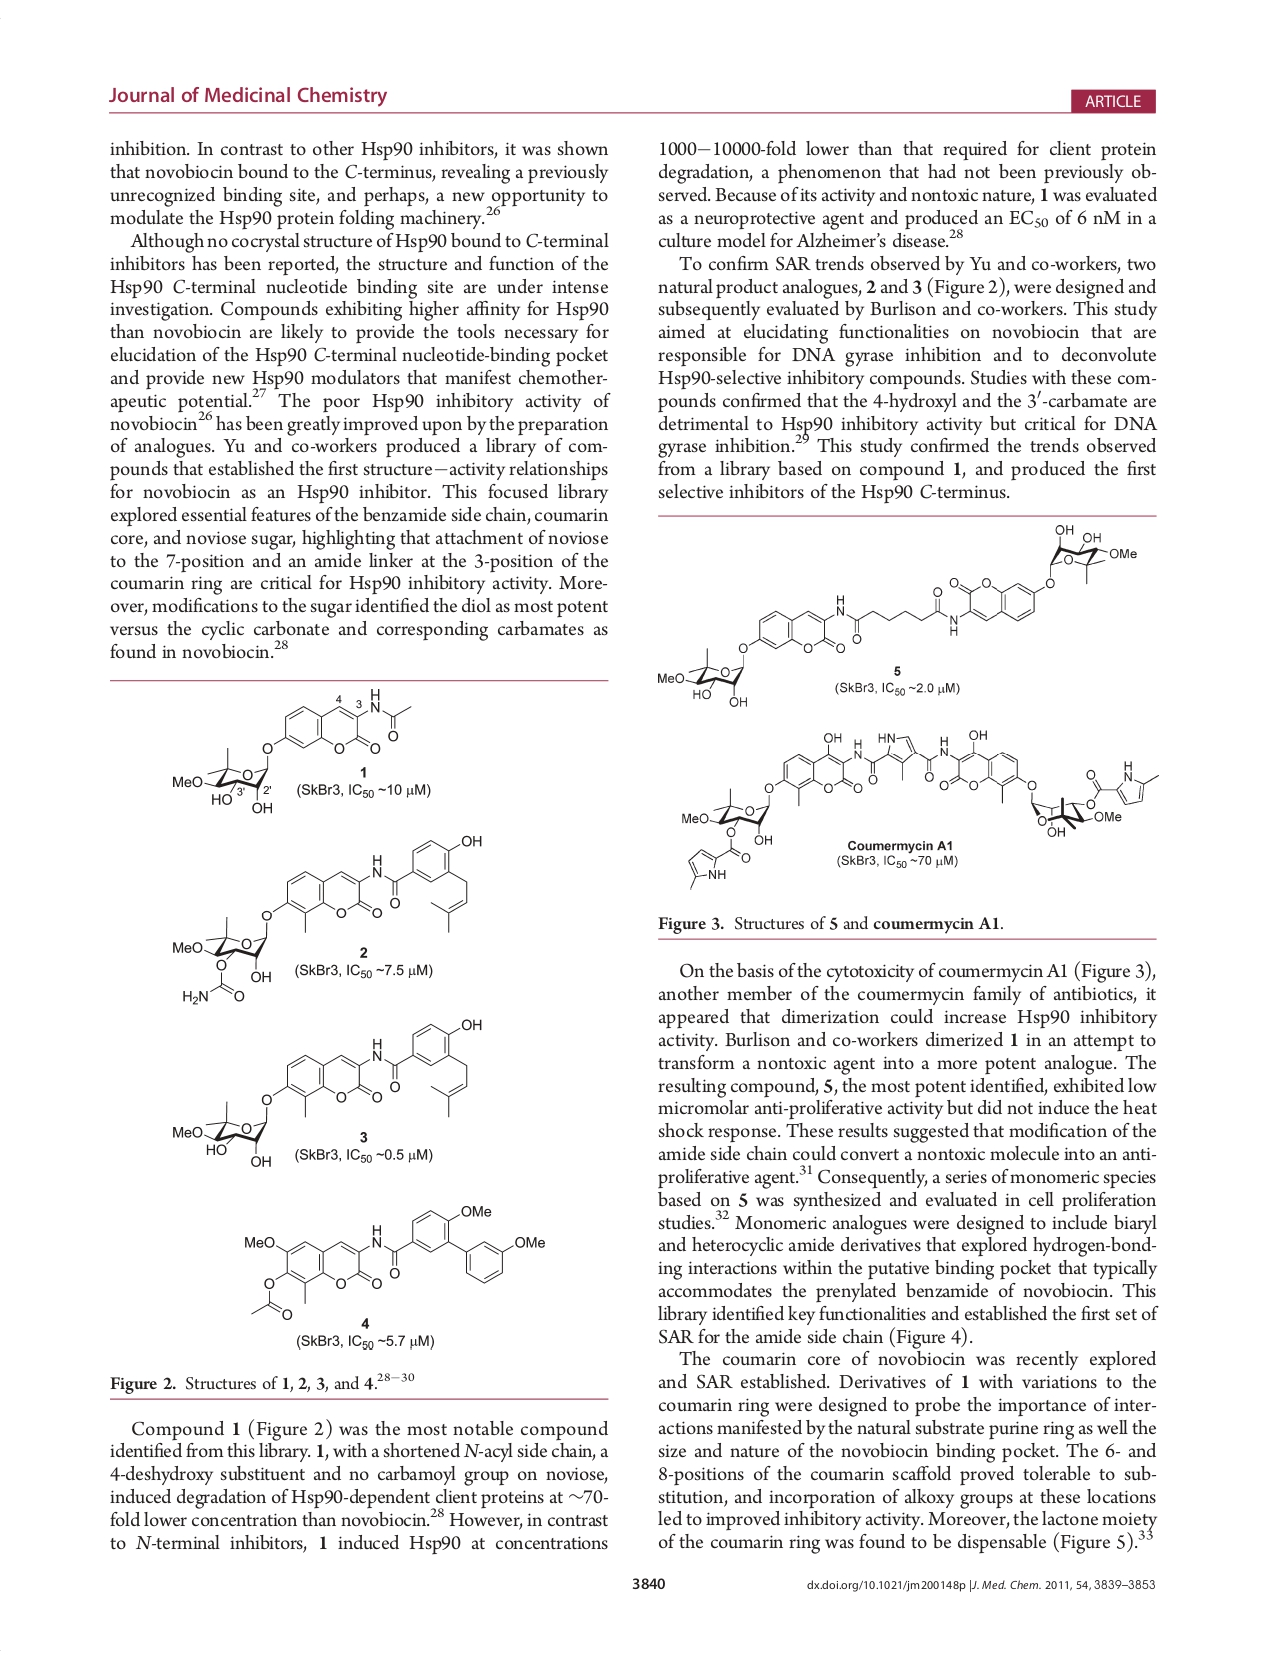exist_molecular: (653, 523, 1138, 710), (680, 727, 1161, 890), (169, 834, 485, 1008), (169, 1017, 485, 1172), (241, 1202, 547, 1321), (169, 686, 415, 819)
